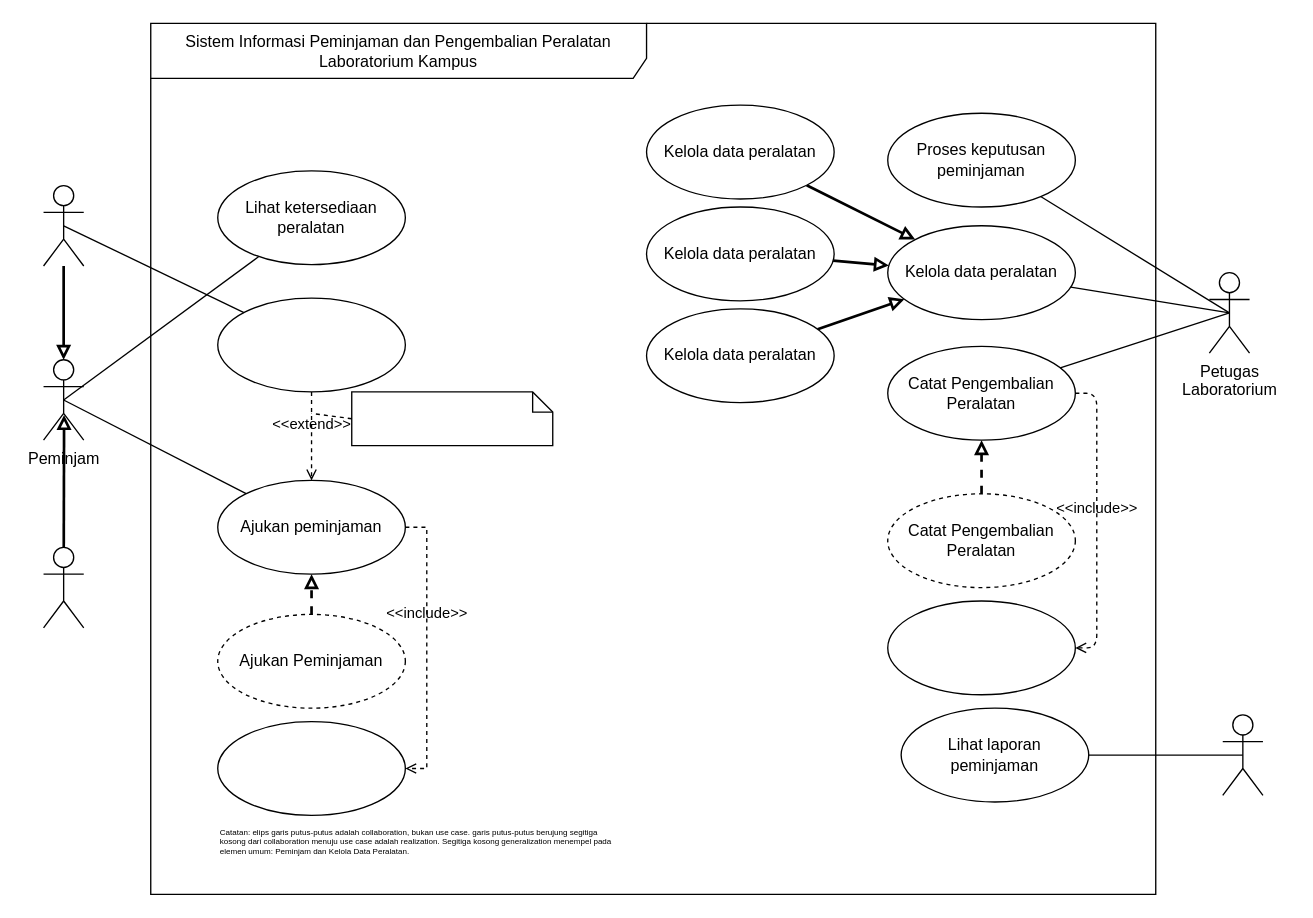
Some shapes in this 1313 by 918 pixel diagram are drawn without their labels. Each missing label, with the box of its shape:
Cetak bukti pengajuan: (216, 297, 405, 392)
Condition: [mahasiswa memilih cetak] extension point: Bukti pengajuan tersedia: (350, 391, 553, 446)
Dosen: (42, 546, 84, 628)
Kepala Laboratorium: (1221, 714, 1263, 795)
Mahasiswa: (42, 184, 84, 266)
Periksa ketersediaan: (216, 720, 405, 815)
Periksa Kondisi Peralatan: (886, 600, 1075, 695)
